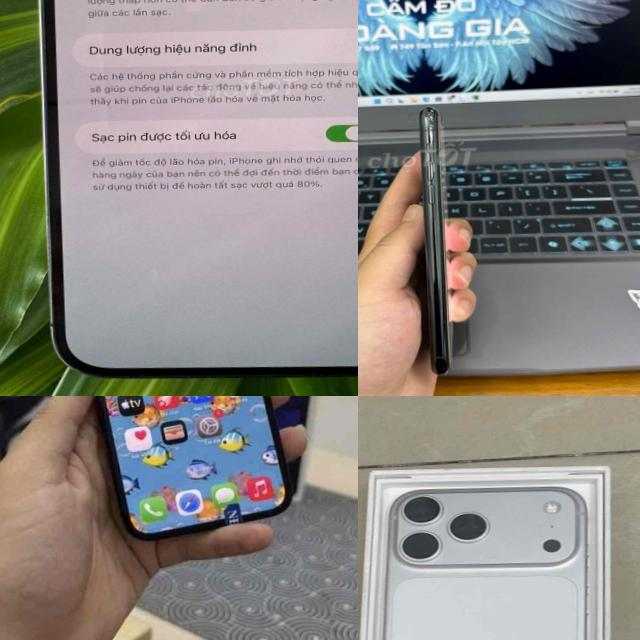gen_11: (419, 107, 452, 373)
gen_14: (10, 0, 358, 387), (64, 396, 297, 538)
gen_17: (358, 473, 608, 640)
